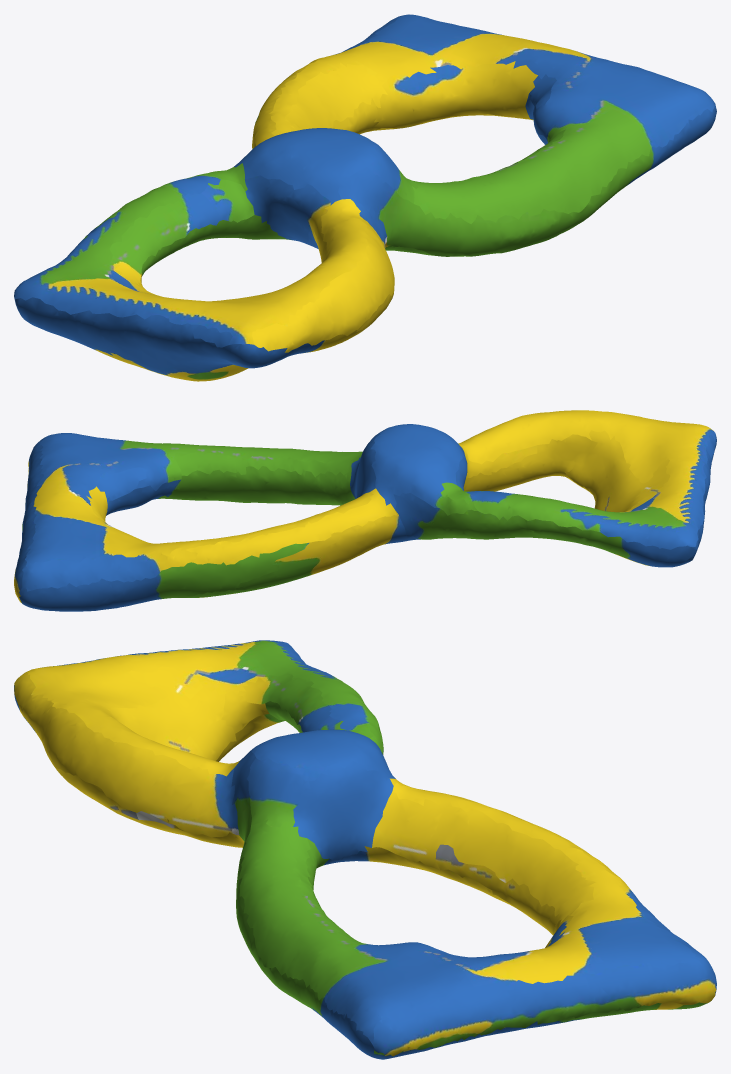
Rendered from twist.glb.
3 renders of one model, top to bottom at view 1: azimuth 30°, elevation 25°; view 2: azimuth 150°, elevation 25°; view 3: azimuth 270°, elevation 25°, orthographic. The views are drawn at different scales.
Visible parts, largest first — view 1: geometry_0; view 2: geometry_0; view 3: geometry_0.
Part boxes in pixels (box(x1,y1,x2,y2)): geometry_0: box(14, 14, 716, 381); geometry_0: box(14, 410, 716, 611); geometry_0: box(14, 640, 716, 1059).
Size of the model in its own units: 0.9305 by 0.1589 by 0.7484.
Materials: 1 (1 with a texture image).
